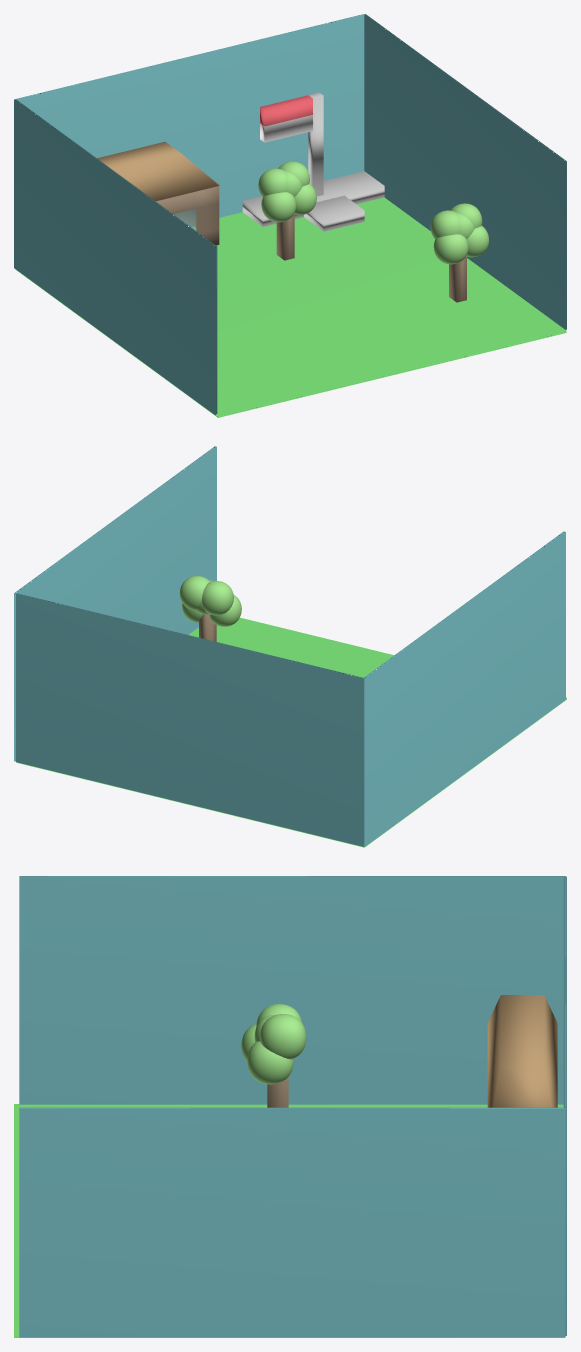
Rendered from school.fbx.
The picture shows the model from 3 angles, top to bottom: view 1: azimuth 30°, elevation 25°; view 2: azimuth 150°, elevation 25°; view 3: azimuth 270°, elevation 25°; orthographic projection. The views are drawn at different scales.
Parts seen in each view (by area): view 1: Cube.005, Cube, Cube.003, Cube.006, Cube.011, Cube.015, Cube.016; view 2: Cube.003, Cube.005, Cube, Cube.016; view 3: Cube.005, Cube.011, Cube.017, Cube, Cube.003.
Boxes of the visible parts, left/top/right/bottom form: Cube.005: left=14, top=14, right=566, bottom=415; Cube: left=15, top=197, right=566, bottom=417; Cube.003: left=14, top=14, right=364, bottom=217; Cube.006: left=242, top=92, right=384, bottom=231; Cube.011: left=97, top=141, right=219, bottom=245; Cube.015: left=258, top=161, right=316, bottom=260; Cube.016: left=430, top=203, right=489, bottom=302; Cube.003: left=16, top=593, right=364, bottom=846; Cube.005: left=14, top=446, right=565, bottom=846; Cube: left=16, top=617, right=566, bottom=847; Cube.016: left=179, top=576, right=241, bottom=641; Cube.005: left=19, top=876, right=565, bottom=1337; Cube.011: left=487, top=995, right=557, bottom=1107; Cube.017: left=241, top=1004, right=306, bottom=1107; Cube: left=14, top=1104, right=564, bottom=1337; Cube.003: left=563, top=876, right=566, bottom=1335.
Size of the model in its own units: 1987 by 916 by 1993.
